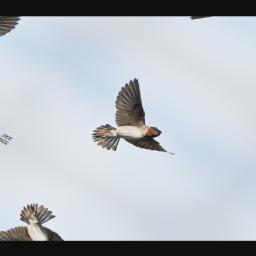Swallow: (76, 74, 210, 179)
